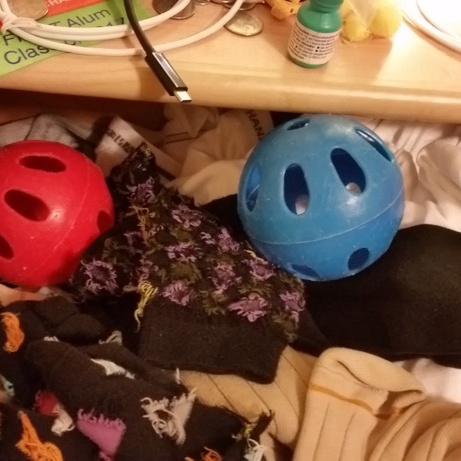blueball: (231, 111, 411, 288)
redball: (2, 136, 120, 295)
